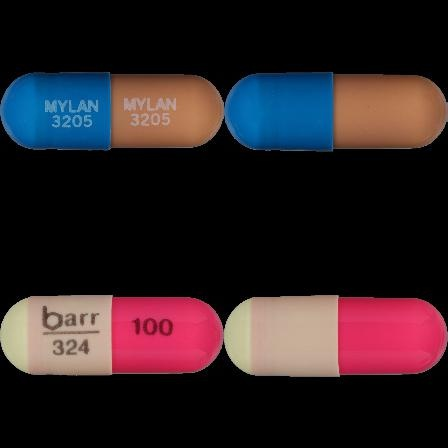43063-248: (0, 0, 224, 224)
